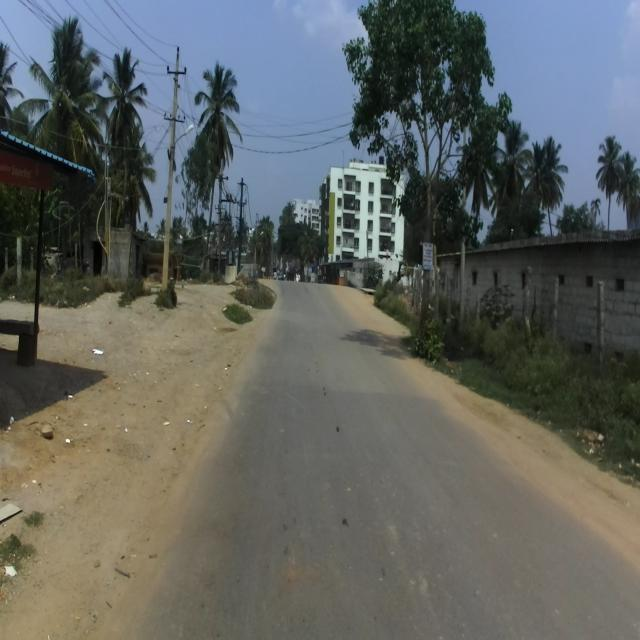electric pole ahead at: (162, 40, 188, 305)
tree ahead at: (362, 0, 461, 358)
